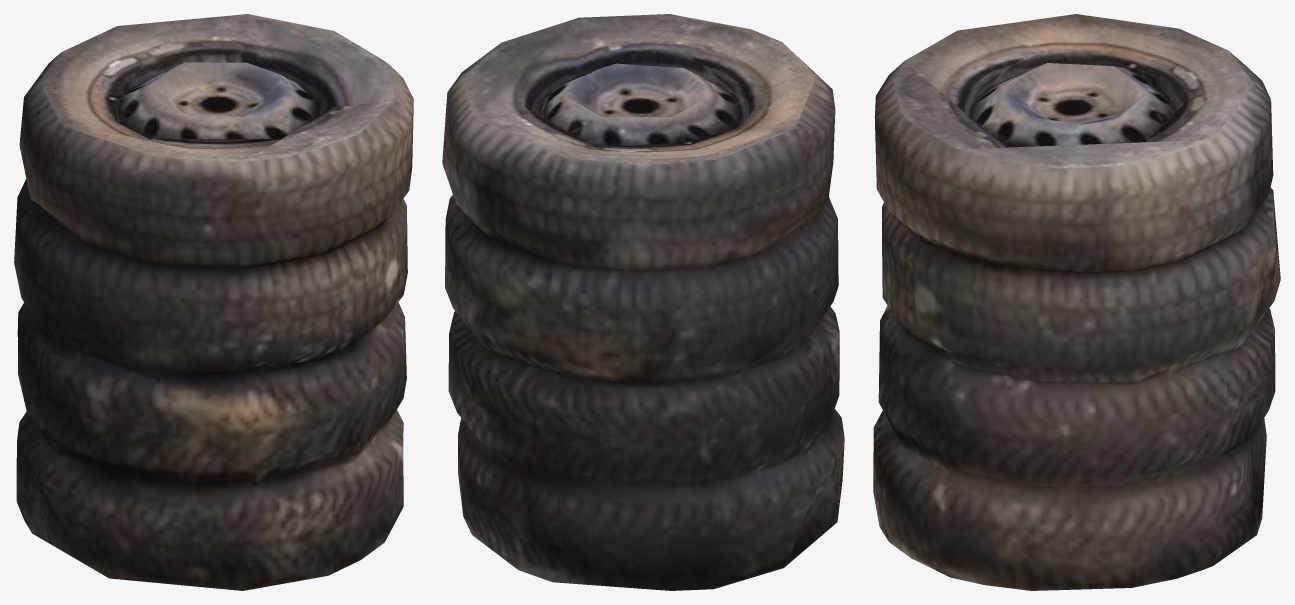
File: tires.lod1.glb
The picture shows the model from 3 angles, left to right: view 1: azimuth 30°, elevation 25°; view 2: azimuth 150°, elevation 25°; view 3: azimuth 270°, elevation 25°; orthographic projection.
Parts seen in each view (by area): view 1: Retopo_model to retopo_Material_0; view 2: Retopo_model to retopo_Material_0; view 3: Retopo_model to retopo_Material_0.
Part boxes in pixels (x1,y1,x2,y2): Retopo_model to retopo_Material_0: (14, 14, 413, 590); Retopo_model to retopo_Material_0: (442, 14, 844, 590); Retopo_model to retopo_Material_0: (873, 14, 1280, 590).
Bounding box in the file's own units: 1.25 × 1.46 × 1.24.
1 material, 1 textured.
